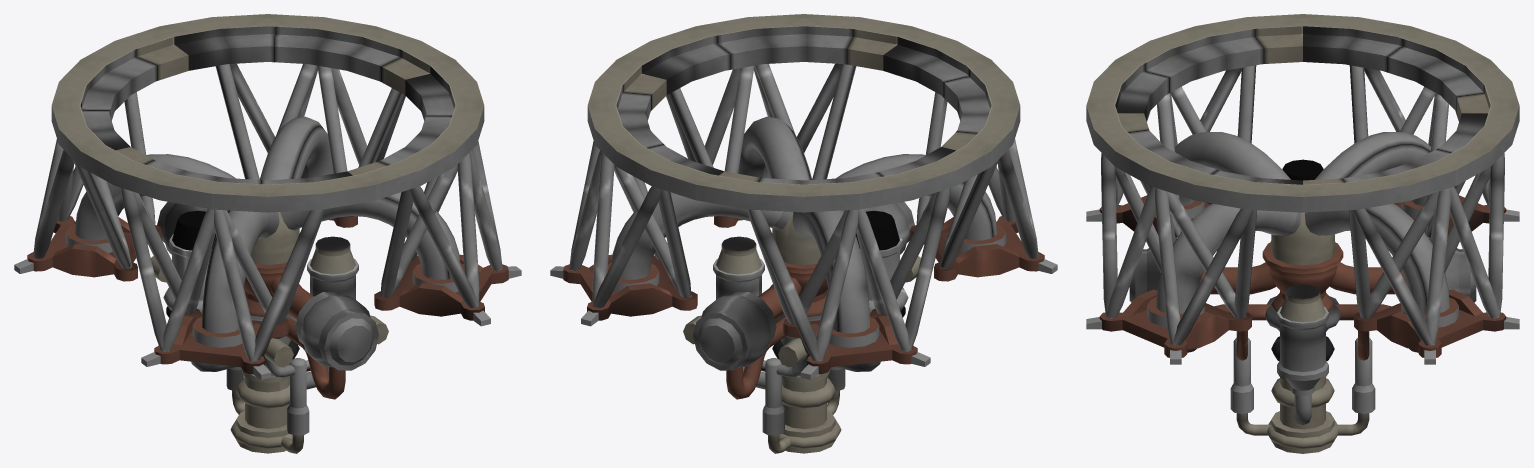
The model's file is ring base.obj.
3 renders of one model, left to right at view 1: azimuth 30°, elevation 25°; view 2: azimuth 150°, elevation 25°; view 3: azimuth 270°, elevation 25°, orthographic.
Visible parts, largest first — view 1: 1; view 2: 1; view 3: 1.
Part boxes in pixels (<box>): 1: <box>14,14,521,453</box>; 1: <box>550,14,1057,453</box>; 1: <box>1086,14,1519,453</box>.
Size of the model in its own units: 1.88 by 1.6 by 1.88.
